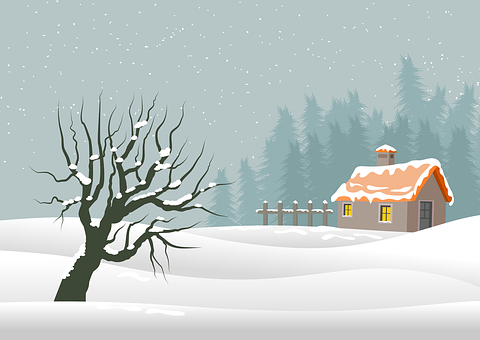house: (289, 138, 454, 234)
sky: (1, 1, 473, 142)
tree: (39, 89, 205, 310)
